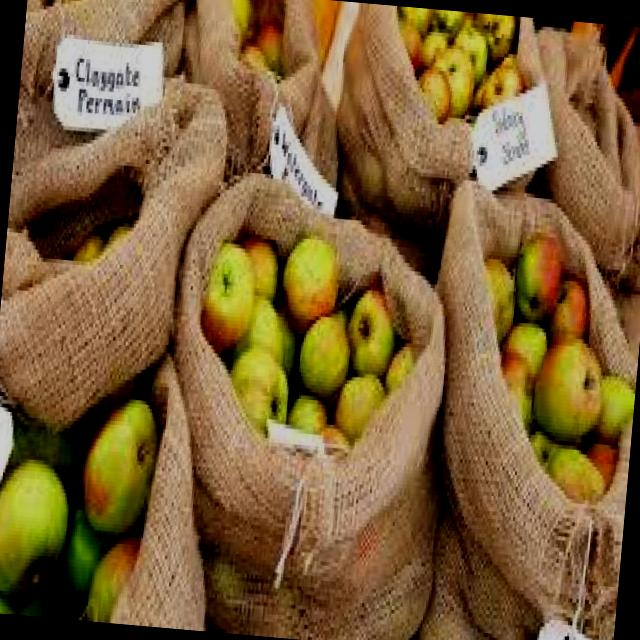Apple: (76, 392, 162, 538), (0, 451, 72, 603), (528, 331, 606, 444), (198, 238, 258, 352), (224, 342, 292, 440), (276, 233, 342, 333), (294, 307, 352, 399), (511, 226, 566, 322), (342, 284, 398, 376), (429, 44, 476, 120), (544, 275, 592, 347), (475, 61, 527, 116)
